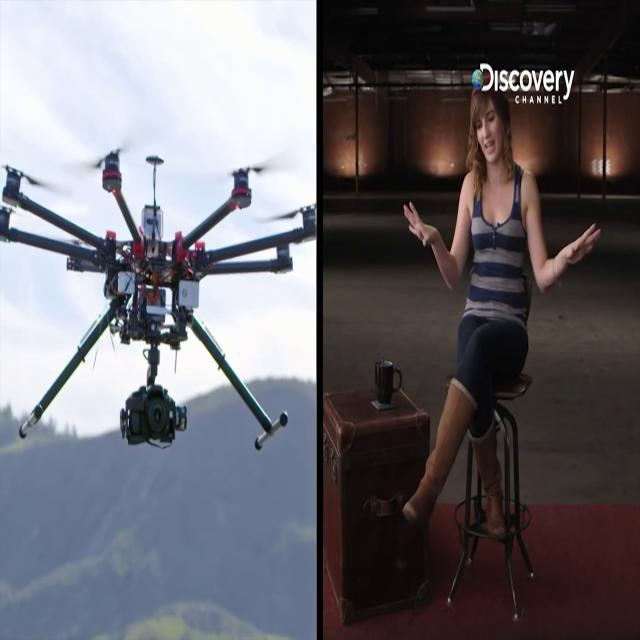drone: (0, 73, 314, 482)
